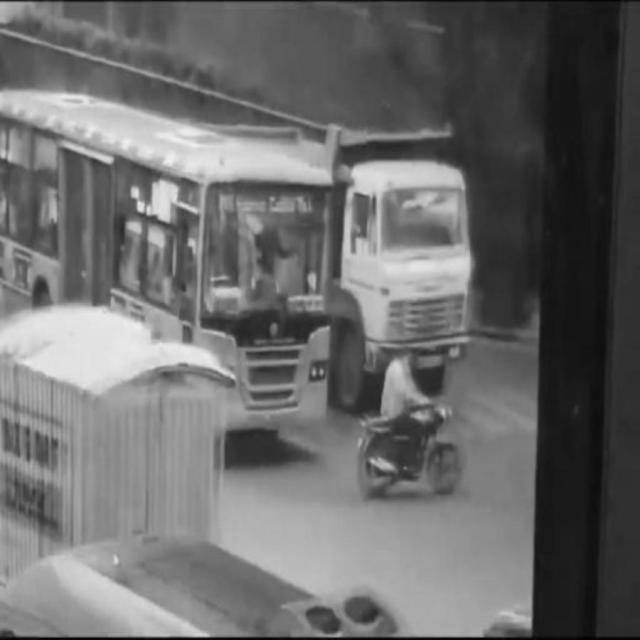vehicle: (5, 93, 327, 430), (317, 115, 468, 409), (359, 342, 462, 508)
